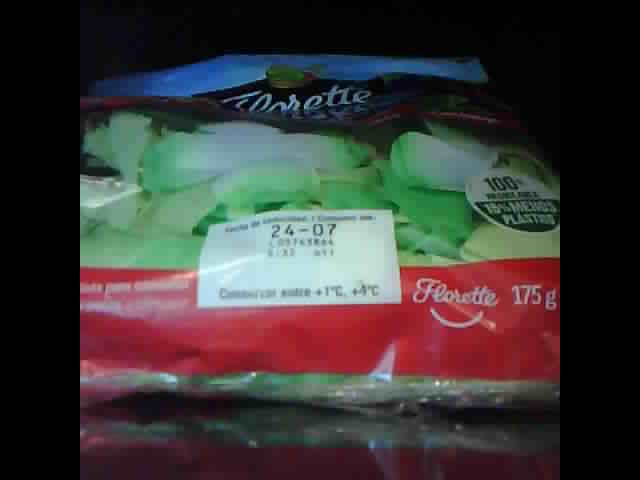florette: (80, 49, 557, 407)
